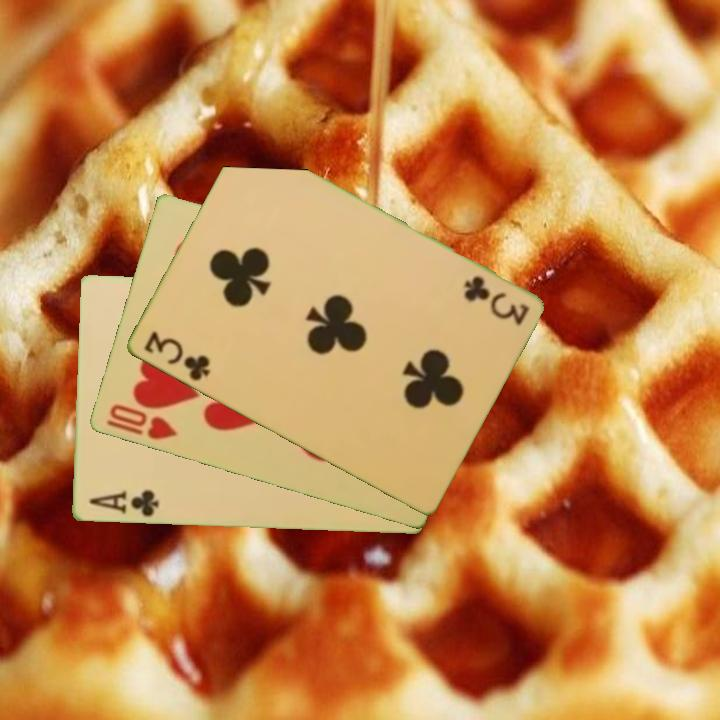10h: (102, 401, 180, 443)
3c: (139, 328, 213, 385), (459, 272, 532, 328)
Ac: (84, 487, 162, 520)
